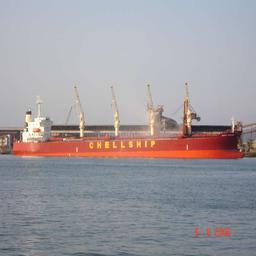Ship: (11, 87, 247, 162)
